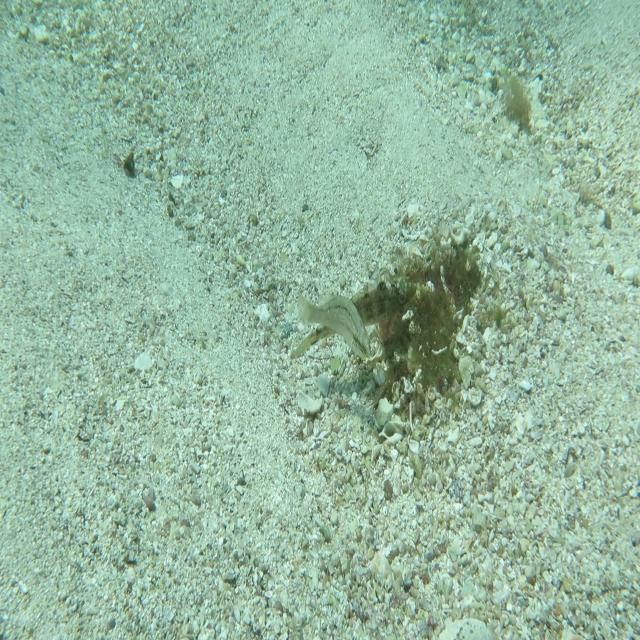ROLL: (289, 273, 419, 363)
female: (296, 288, 372, 364)
nest: (366, 228, 496, 427)
